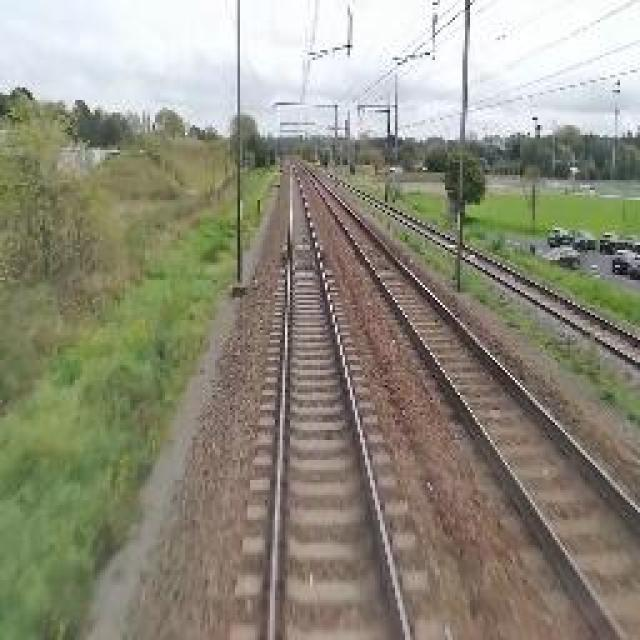rail: (241, 160, 474, 640)
